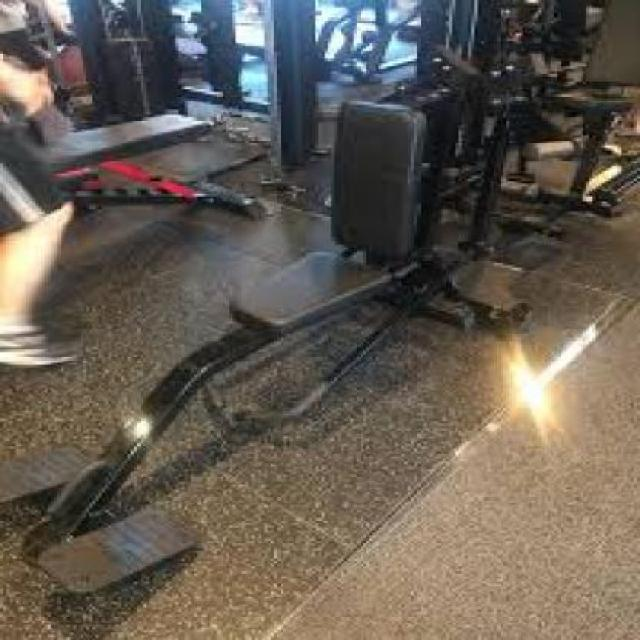lateral raises machine: (0, 95, 474, 592)
